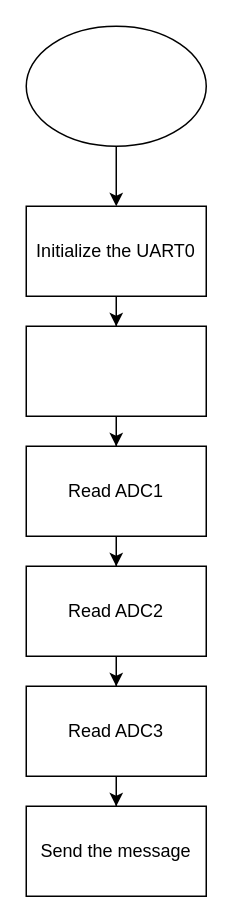
The diagram is 233 pixels wide and 923 high, and some of its shapes have lost their labels. Each missing label, with the centre of its shape:
INIT: (x=115, y=85)
Read ADC0: (x=115, y=370)
